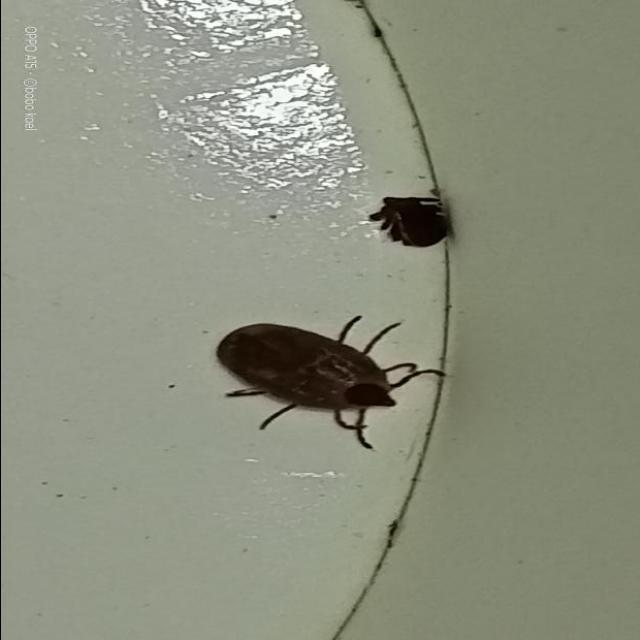Rhipicephalus Sanguineus-F-Fed: (213, 315, 448, 450)
Rhipicephalus Sanguineus-M: (360, 194, 455, 251)
